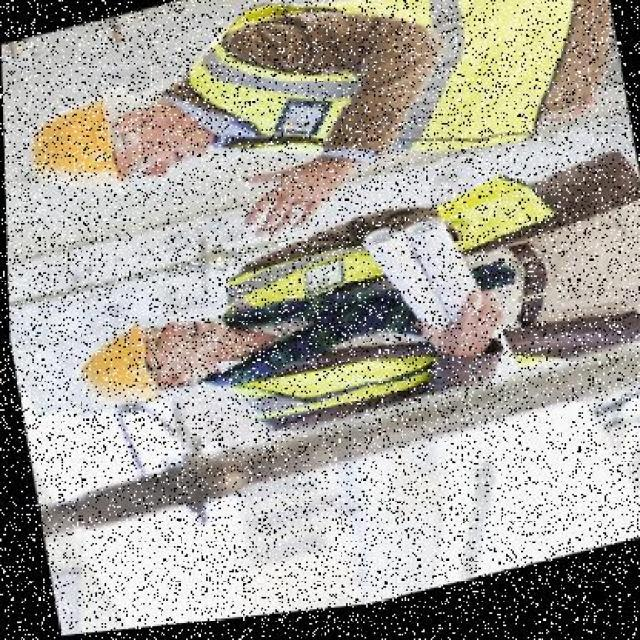helmet: (14, 85, 130, 215), (60, 306, 176, 429)
vest: (203, 163, 595, 436), (180, 0, 594, 199)
